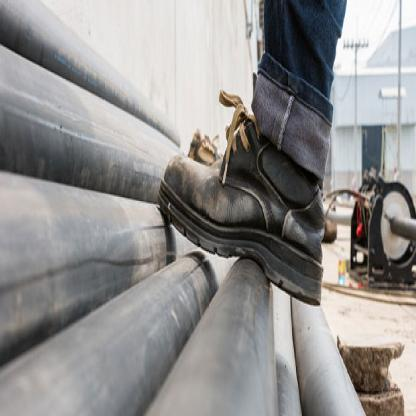bota: (154, 112, 329, 308)
